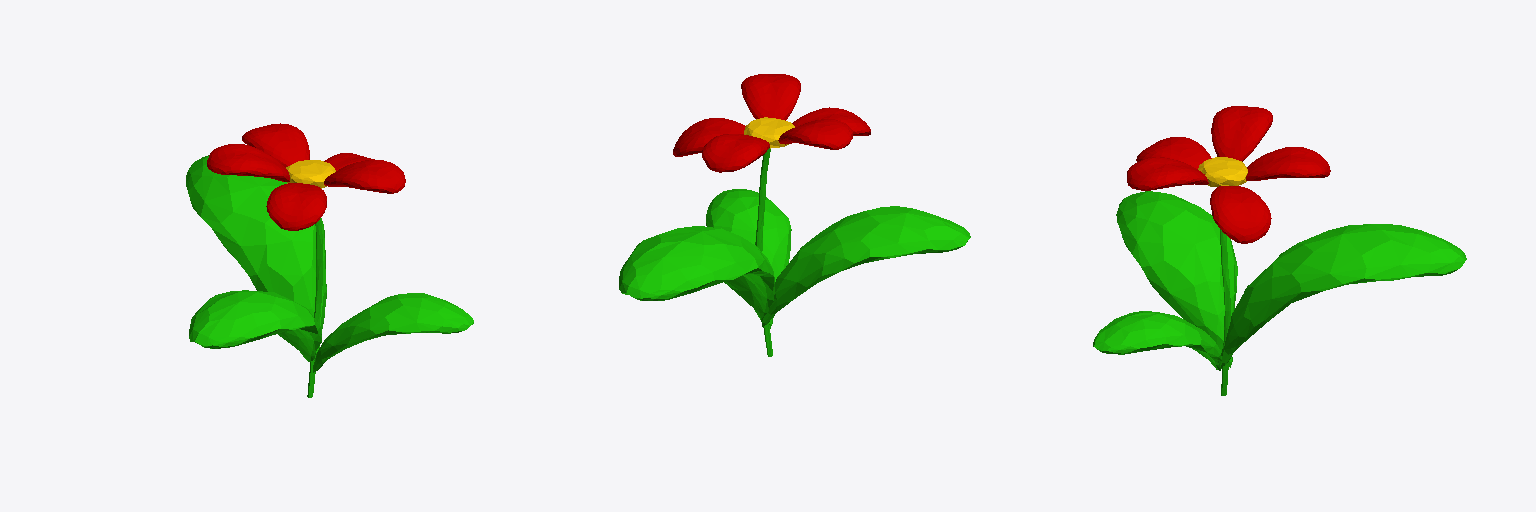
File: flower.obj
3 views of the same model, side by side, from view 1: azimuth 30°, elevation 25°; view 2: azimuth 150°, elevation 25°; view 3: azimuth 270°, elevation 25° (orthographic).
Visible parts, largest first — view 1: flower; view 2: flower; view 3: flower.
Boxes of the visible parts, <box> form: flower: <box>186,123,473,397</box>; flower: <box>619,74,970,356</box>; flower: <box>1093,106,1466,395</box>.
Size of the model in its own units: 2.06 by 1.89 by 2.54.